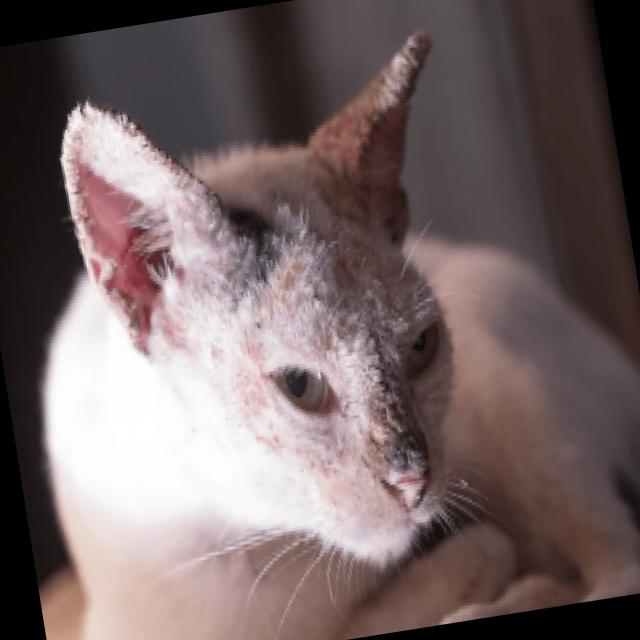Mange: (369, 346, 428, 479), (83, 249, 143, 354), (373, 29, 430, 116), (304, 444, 346, 498), (252, 421, 288, 449)
